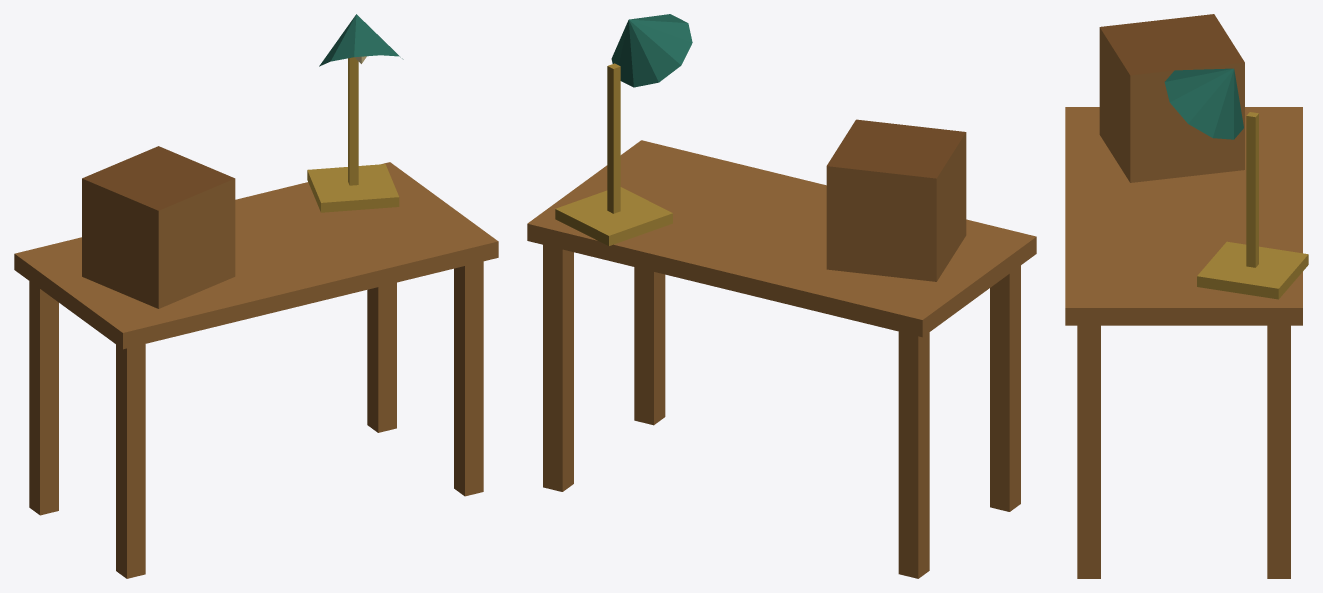
The model's file is desk.glb.
3 renders of one model, left to right at view 1: azimuth 30°, elevation 25°; view 2: azimuth 150°, elevation 25°; view 3: azimuth 270°, elevation 25°, orthographic. The views are drawn at different scales.
Parts seen in each view (by area): view 1: top, crate, leg_right_front, leg_left_front, leg_right_back, lamp, leg_left_back; view 2: top, crate, lamp, leg_right_back, leg_left_back, leg_right_front, leg_left_front; view 3: top, crate, lamp, leg_left_front, leg_left_back.
Part boxes in pixels (x1,y1,x2,y2): top: [14, 162, 498, 349]; crate: [82, 146, 235, 308]; leg_right_front: [116, 344, 145, 578]; leg_left_front: [454, 261, 483, 496]; leg_right_back: [29, 281, 58, 515]; lamp: [307, 14, 403, 212]; leg_left_back: [367, 282, 396, 432]; top: [527, 140, 1036, 337]; crate: [826, 119, 966, 281]; lamp: [555, 14, 692, 245]; leg_right_back: [898, 331, 929, 578]; leg_left_back: [543, 245, 573, 491]; leg_right_front: [990, 265, 1020, 511]; leg_left_front: [634, 267, 665, 425]; top: [1065, 107, 1302, 325]; crate: [1099, 14, 1244, 182]; lamp: [1164, 68, 1308, 299]; leg_left_front: [1077, 325, 1100, 578]; leg_left_back: [1267, 325, 1290, 578].
Bounding box in the file's own units: 1.2 × 1.34 × 0.6144.
